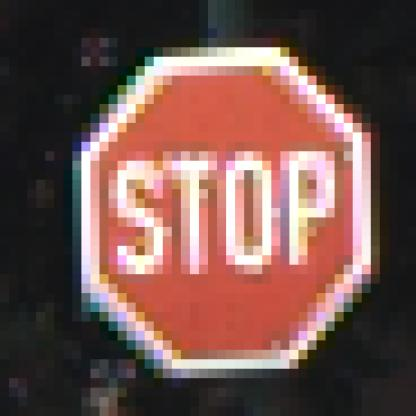Stop: (80, 56, 369, 378)
